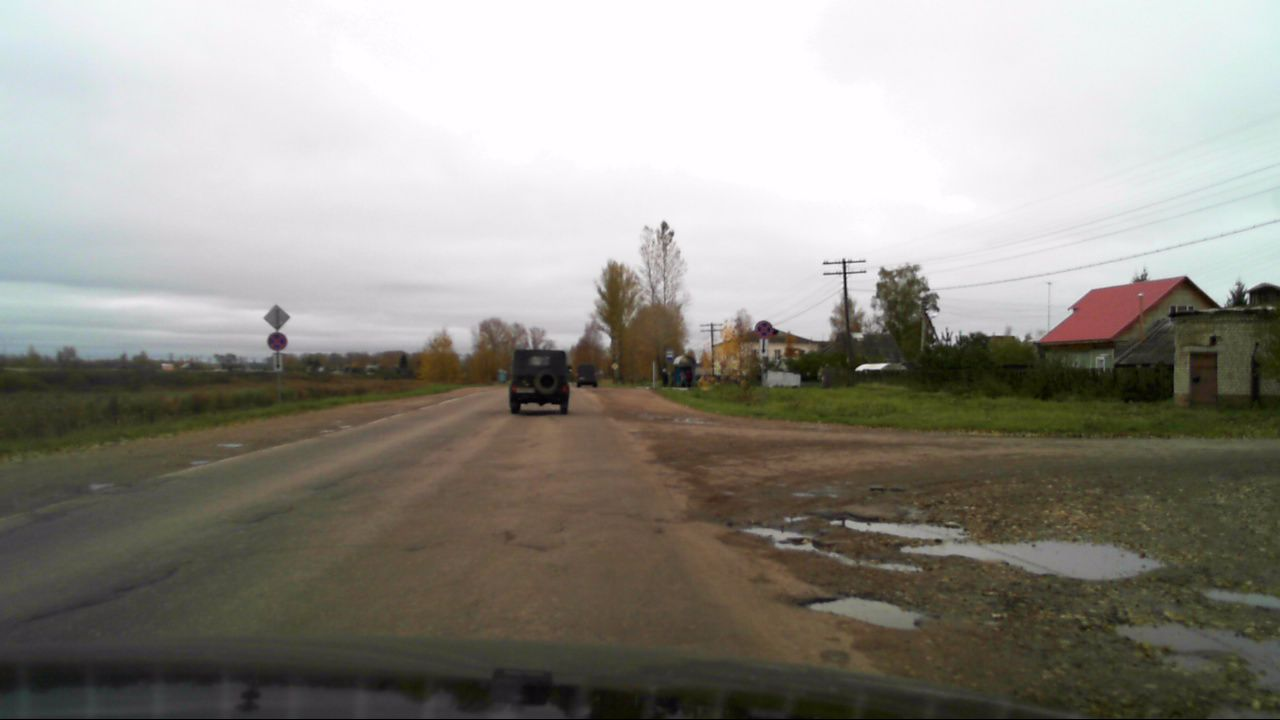No Parking: (267, 330, 287, 351)
